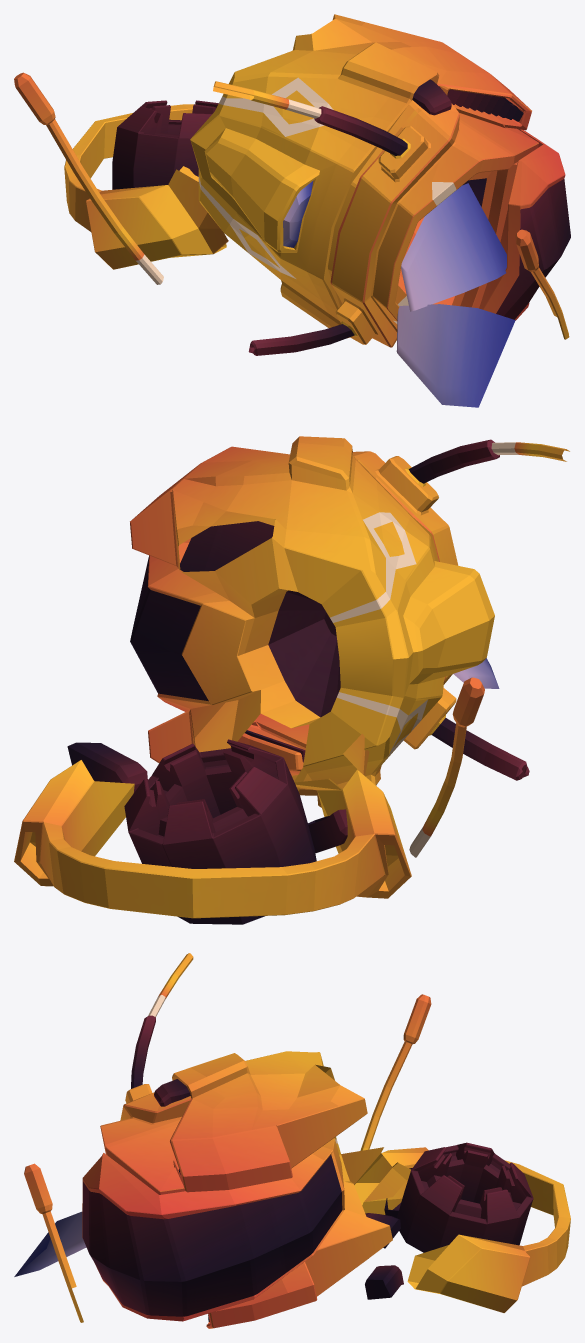
The model's file is capsulCrashed.fbx.
3 views of the same model, one above another, from view 1: azimuth 30°, elevation 25°; view 2: azimuth 150°, elevation 25°; view 3: azimuth 270°, elevation 25° (orthographic). The views are drawn at different scales.
Visible parts, largest first — view 1: capsulCrashed_base, capsulCrashed_wing, capsulCrashed_window01, capsulCrashed_window02, capsulCrashed_engine, capsulCrashed_antenna01, capsulCrashed_antenna02, capsulCrashed_lamp; view 2: capsulCrashed_base, capsulCrashed_wing, capsulCrashed_engine, capsulCrashed_antenna01, capsulCrashed_window01; view 3: capsulCrashed_base, capsulCrashed_wing, capsulCrashed_engine, capsulCrashed_antenna01, capsulCrashed_antenna02, capsulCrashed_window01.
Part boxes in pixels (bbox=[...]): capsulCrashed_base: bbox=[190, 14, 570, 355]; capsulCrashed_wing: bbox=[64, 104, 228, 269]; capsulCrashed_window01: bbox=[396, 304, 515, 407]; capsulCrashed_window02: bbox=[401, 183, 506, 311]; capsulCrashed_engine: bbox=[112, 100, 218, 189]; capsulCrashed_antenna01: bbox=[14, 72, 163, 284]; capsulCrashed_antenna02: bbox=[515, 229, 569, 339]; capsulCrashed_lamp: bbox=[283, 181, 313, 247]; capsulCrashed_base: bbox=[130, 436, 569, 807]; capsulCrashed_wing: bbox=[14, 733, 411, 918]; capsulCrashed_engine: bbox=[67, 739, 347, 924]; capsulCrashed_antenna01: bbox=[409, 677, 484, 857]; capsulCrashed_window01: bbox=[453, 658, 499, 688]; capsulCrashed_base: bbox=[82, 953, 392, 1328]; capsulCrashed_wing: bbox=[341, 1147, 570, 1312]; capsulCrashed_engine: bbox=[365, 1142, 533, 1299]; capsulCrashed_antenna01: bbox=[360, 994, 431, 1150]; capsulCrashed_antenna02: bbox=[24, 1163, 83, 1322]; capsulCrashed_window01: bbox=[14, 1211, 86, 1276].
Bounding box in the file's own units: 3.01 × 2.21 × 4.09.
